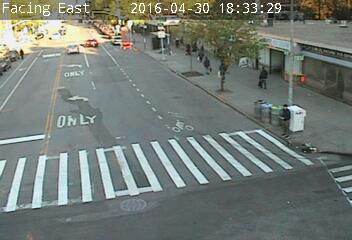neg: (78, 132, 114, 181), (257, 183, 293, 231), (320, 159, 351, 203), (182, 133, 213, 175), (31, 95, 61, 134), (255, 4, 282, 39), (331, 66, 351, 111), (121, 81, 141, 107), (216, 7, 235, 33), (299, 43, 317, 67), (156, 7, 171, 26), (309, 98, 321, 114)
pos: (272, 100, 302, 140), (255, 66, 274, 91), (197, 53, 216, 78), (195, 48, 207, 65), (14, 45, 26, 61), (182, 41, 193, 57), (172, 36, 183, 51)
